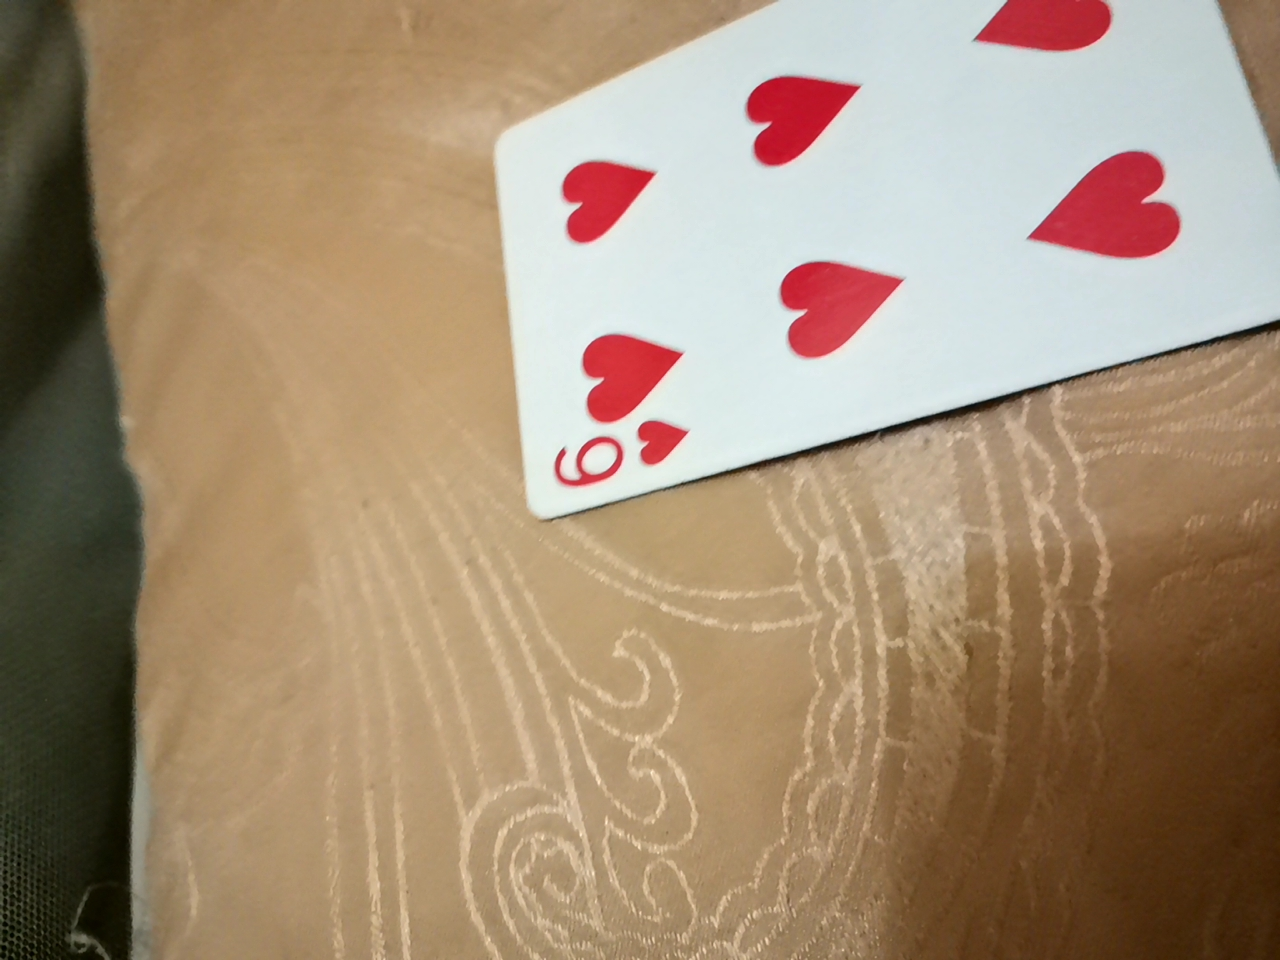hx 6: (510, 6, 1278, 440)
